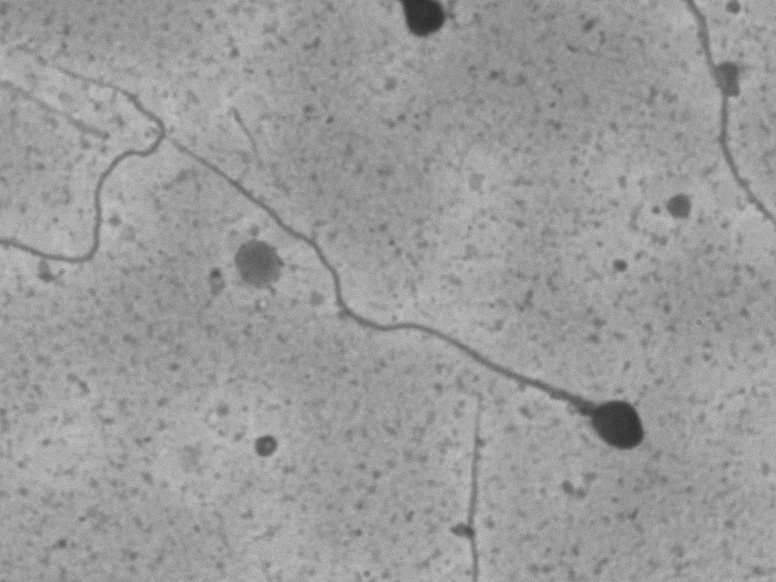Abnormal: (187, 125, 673, 475)
